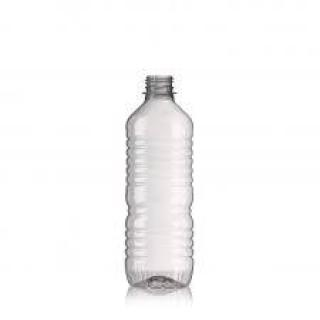Plastic-bottle: (122, 72, 197, 296)
